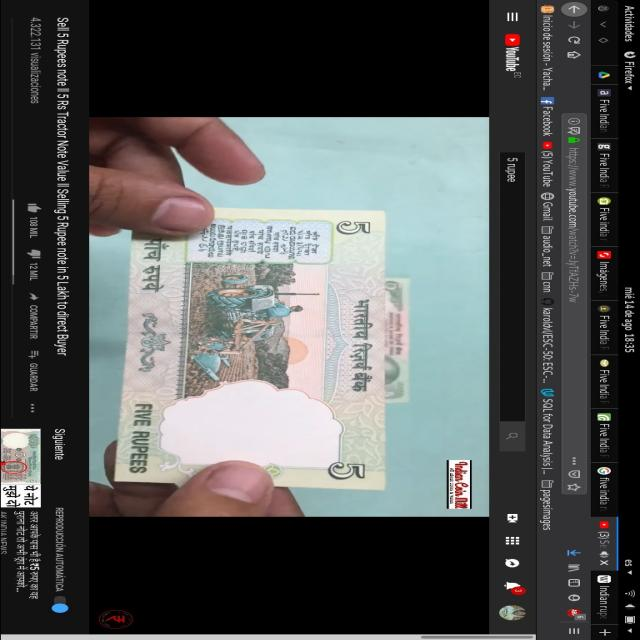5IndianRupees: (121, 212, 385, 483)
